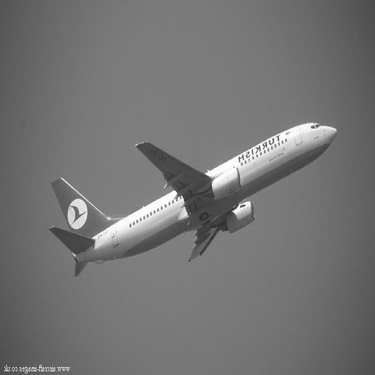airplane: (40, 116, 348, 280)
